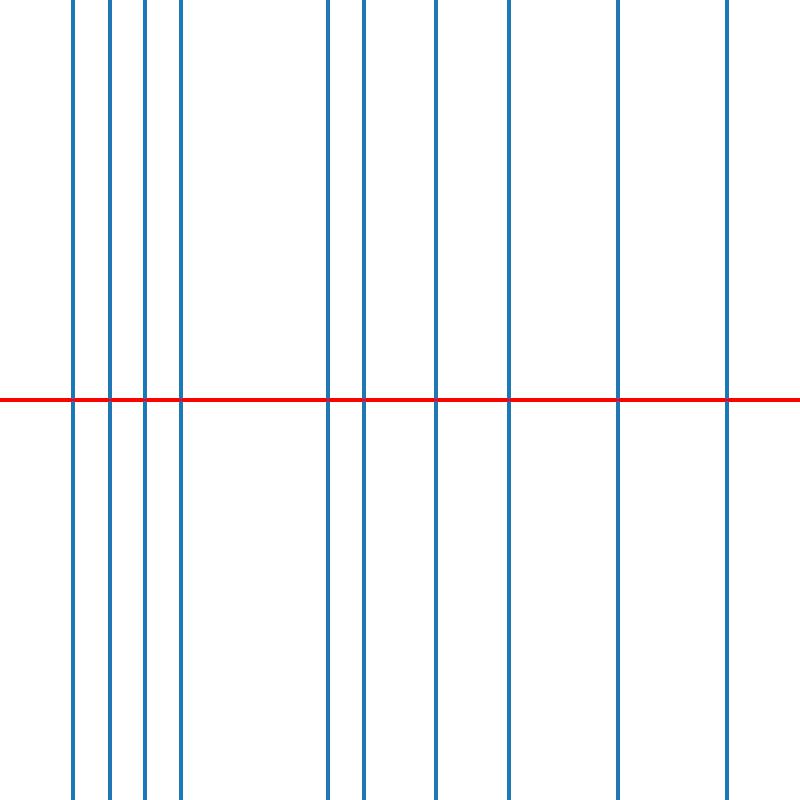root: (141, 396, 149, 404), (432, 396, 440, 404), (360, 396, 367, 404), (323, 396, 330, 404), (105, 396, 112, 404), (69, 396, 76, 404), (723, 396, 730, 404), (178, 396, 185, 404), (614, 396, 621, 404), (505, 396, 512, 404)
